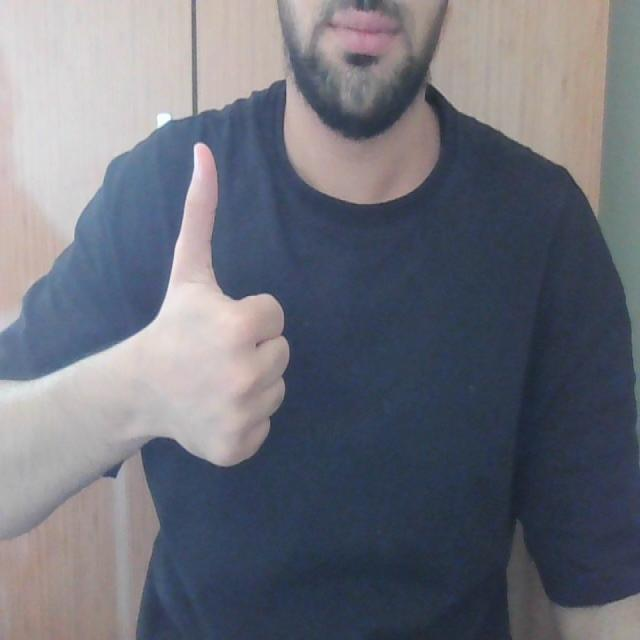Tamam: (151, 138, 297, 474)
